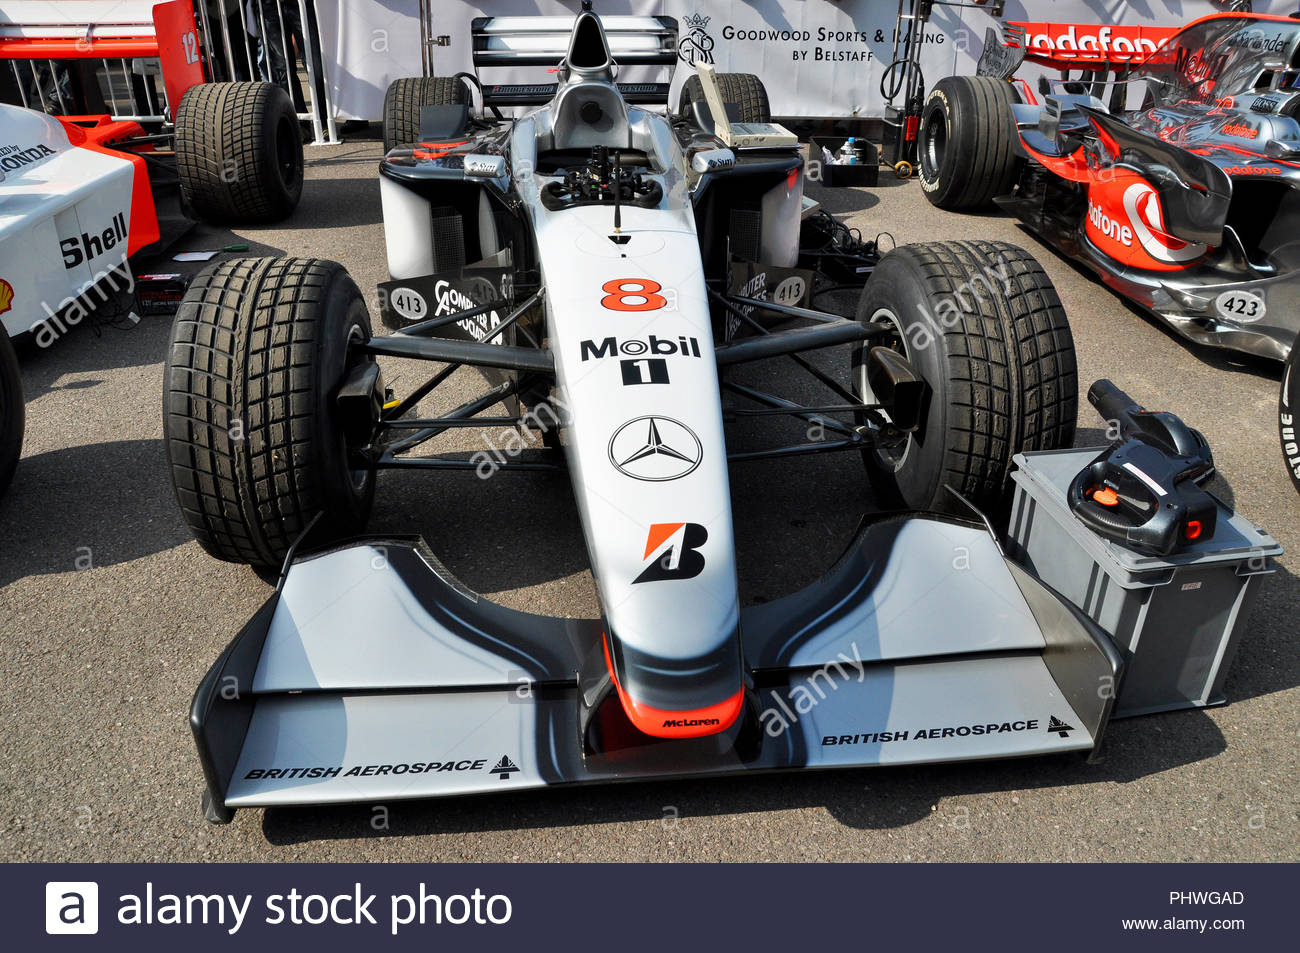f1_car: (149, 5, 1136, 854)
